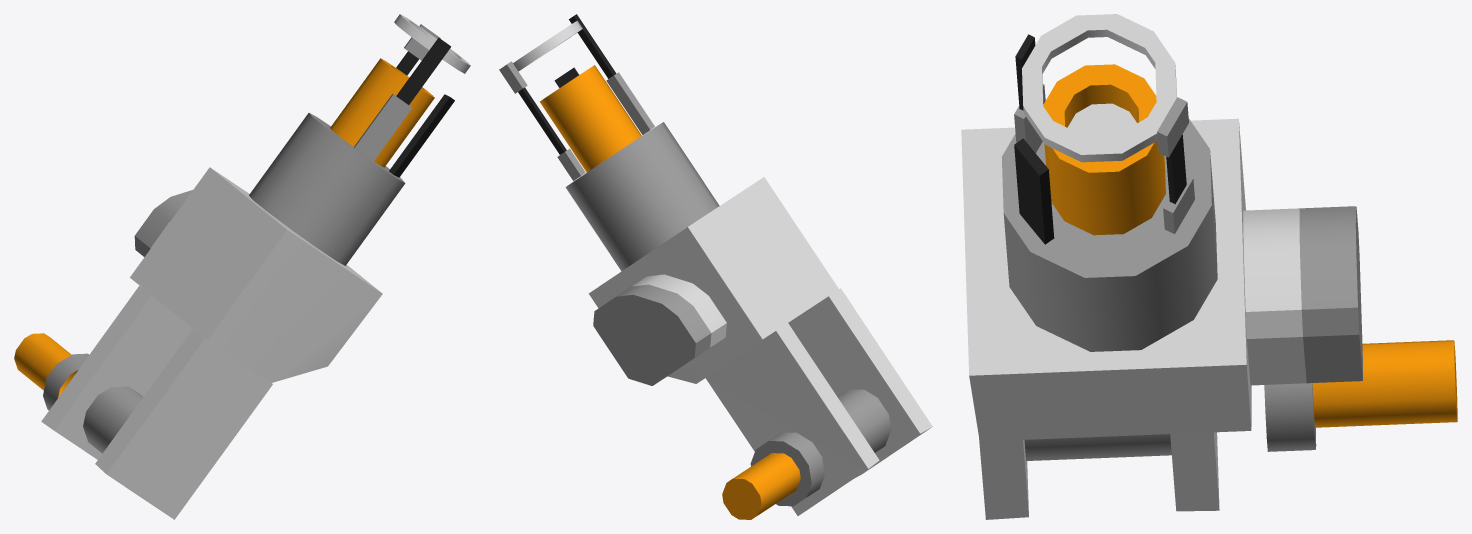
3 views of the same model, side by side, from view 1: azimuth 30°, elevation 25°; view 2: azimuth 150°, elevation 25°; view 3: azimuth 270°, elevation 25° (orthographic). The views are drawn at different scales.
Visible parts, largest first — view 1: BP; view 2: BP; view 3: BP.
Boxes of the visible parts, box(x1,y1,x2,y2) form: BP: box(14, 14, 470, 519); BP: box(499, 14, 932, 519); BP: box(961, 14, 1457, 519).
Bounding box in the file's own units: 113 × 114 × 69.61.
